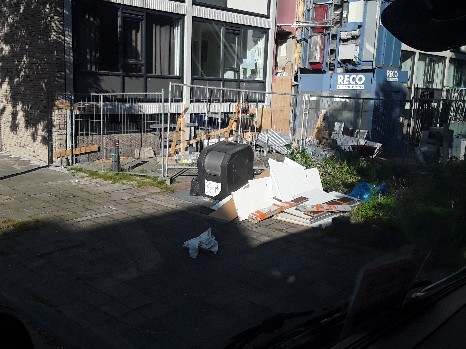Container: (204, 141, 243, 197)
Rest: (250, 165, 342, 211)
